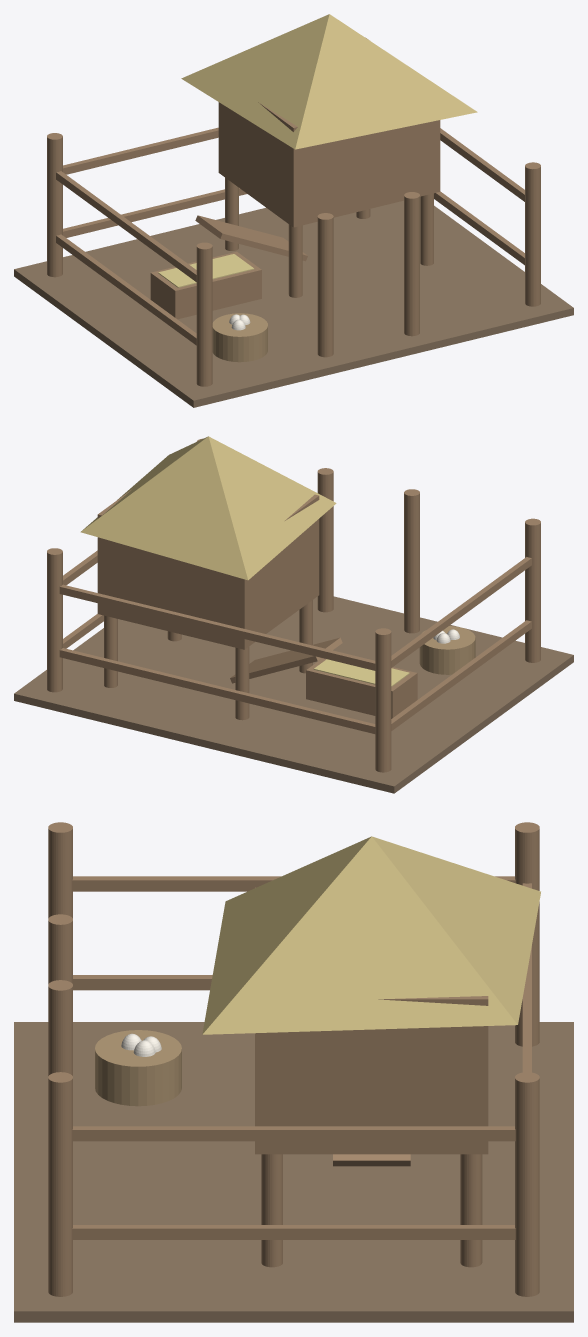
The model's file is burgage_coop.glb.
3 renders of one model, top to bottom at view 1: azimuth 30°, elevation 25°; view 2: azimuth 150°, elevation 25°; view 3: azimuth 270°, elevation 25°, orthographic. The views are drawn at different scales.
Parts seen in each view (by area): view 1: Cube, Cone, Cube.007, Cube.009, Cylinder, Cylinder.004, Cylinder.001, Cylinder.005, Cylinder.010, Cylinder.002, Cube.002, Cube.005 (+9 smaller); view 2: Cube, Cone, Cube.007, Cube.001, Cube.004, Cube.009, Cylinder.002, Cylinder.004, Cylinder.003, Cylinder, Cylinder.005, Cylinder.010 (+8 smaller); view 3: Cube, Cone, Cube.007, Cube.006, Cube.003, Cylinder.001, Cylinder.003, Cylinder.010, Cube.005, Cylinder.002, Cylinder, Cylinder.005 (+6 smaller).
Part boxes in pixels (bbox=[...]): Cube: bbox=[14, 197, 573, 407]; Cone: bbox=[181, 14, 477, 149]; Cube.007: bbox=[218, 37, 440, 227]; Cube.009: bbox=[150, 251, 261, 319]; Cylinder: bbox=[196, 242, 212, 386]; Cylinder.004: bbox=[317, 213, 333, 357]; Cylinder.001: bbox=[525, 162, 540, 306]; Cylinder.005: bbox=[404, 192, 419, 336]; Cylinder.010: bbox=[212, 313, 267, 362]; Cylinder.002: bbox=[47, 133, 62, 277]; Cube.002: bbox=[56, 234, 196, 345]; Cube.005: bbox=[56, 171, 196, 281]; Cube: bbox=[14, 596, 573, 793]; Cone: bbox=[80, 436, 336, 580]; Cube.007: bbox=[97, 489, 319, 649]; Cube.001: bbox=[59, 648, 375, 733]; Cube.004: bbox=[59, 584, 375, 670]; Cube.009: bbox=[306, 658, 417, 718]; Cylinder.002: bbox=[375, 628, 391, 772]; Cylinder.004: bbox=[404, 489, 419, 633]; Cylinder.003: bbox=[47, 548, 62, 692]; Cylinder: bbox=[525, 518, 540, 662]; Cylinder.005: bbox=[317, 468, 333, 612]; Cylinder.010: bbox=[419, 626, 475, 674]; Cube: bbox=[14, 1022, 573, 1322]; Cone: bbox=[202, 836, 540, 1034]; Cube.007: bbox=[255, 887, 488, 1154]; Cube.006: bbox=[72, 1126, 515, 1141]; Cube.003: bbox=[72, 1225, 515, 1239]; Cylinder.001: bbox=[48, 1072, 72, 1296]; Cylinder.003: bbox=[515, 1072, 539, 1296]; Cylinder.010: bbox=[95, 1030, 181, 1106]; Cube.005: bbox=[72, 876, 515, 891]; Cylinder.002: bbox=[515, 822, 539, 1046]; Cylinder: bbox=[48, 822, 72, 918]; Cylinder.005: bbox=[48, 980, 72, 1075].
Bounding box in the file's own units: 2.2 × 1.38 × 1.8.
